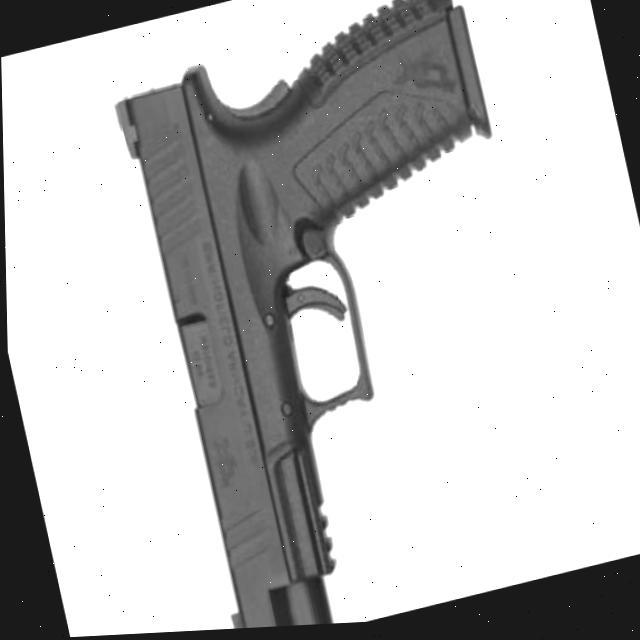gun: (98, 0, 591, 636)
